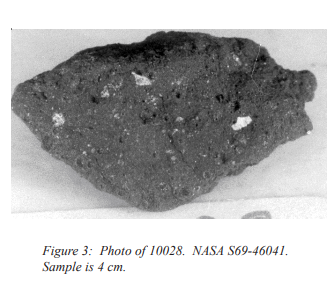Breccia: (11, 29, 321, 210)
